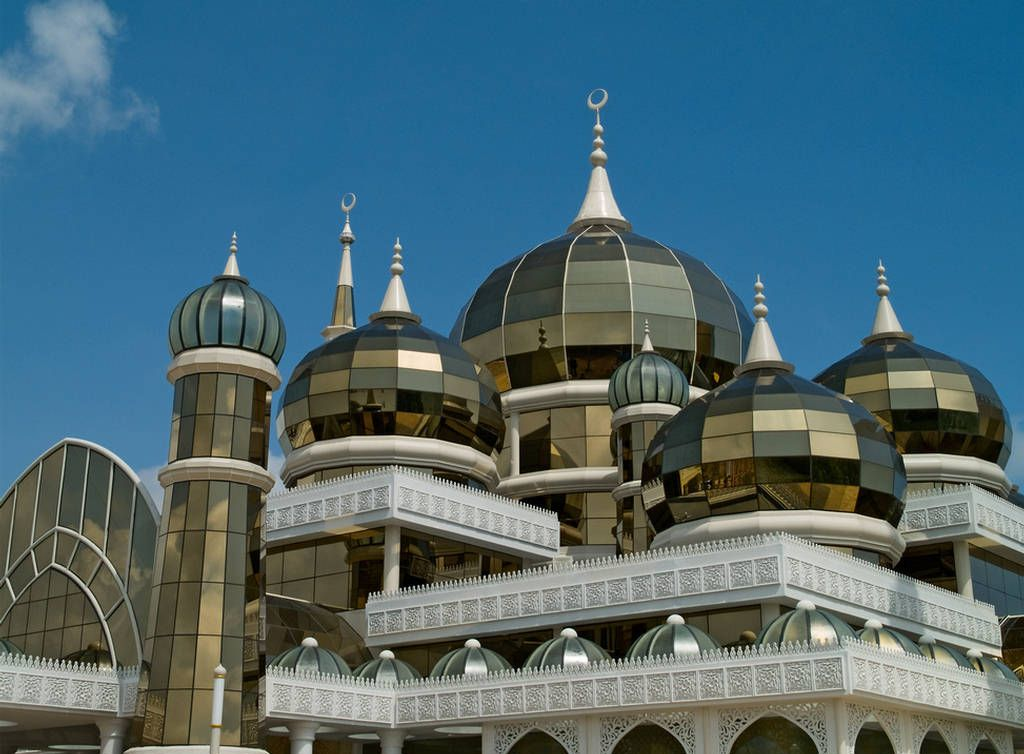Mosque: (80, 85, 1018, 701)
